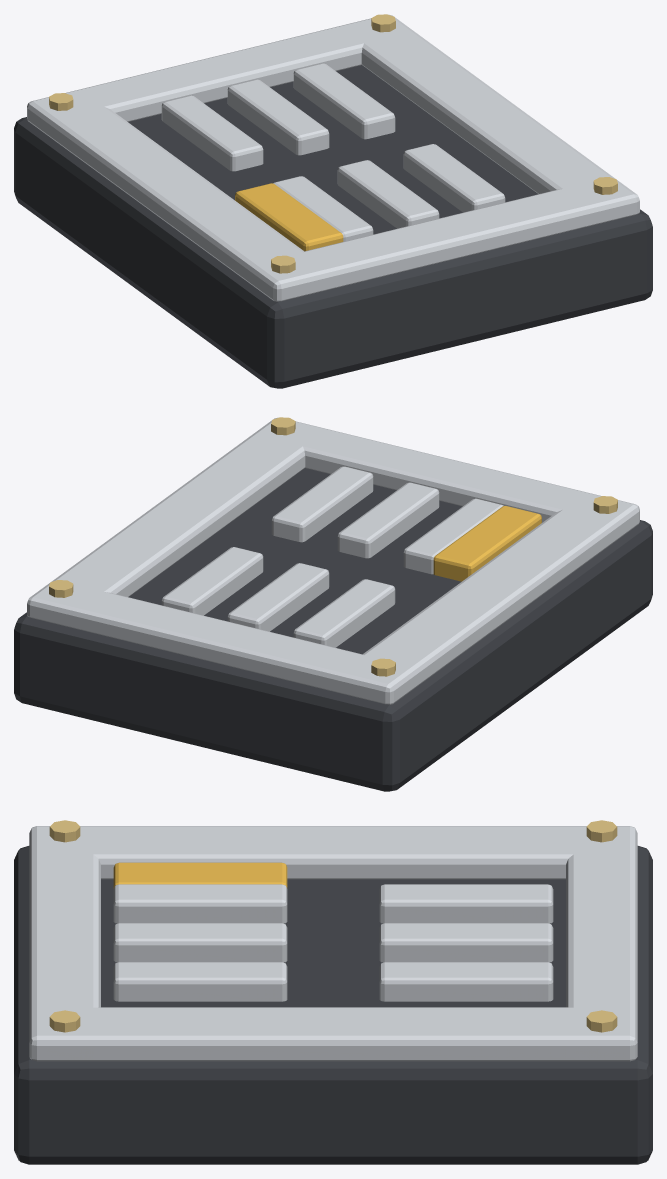
The model's file is gearbox_gate.glb.
3 views of the same model, one above another, from view 1: azimuth 30°, elevation 25°; view 2: azimuth 150°, elevation 25°; view 3: azimuth 270°, elevation 25° (orthographic). The views are drawn at different scales.
Parts seen in each view (by area): view 1: GateBaseBox, GateTopBorderB, GateTopPlateR, GateTopPlateL, GateTopBorderF, GateFingerTop_0.000, GateFingerTop_0.036, GateFingerTop_-0.036, GateFingerBot_0.000, GateFingerBot_0.036, GateBlockRevBot, GateFingerBot_-0.036; view 2: GateBaseBox, GateTopBorderF, GateTopPlateL, GateTopPlateR, GateTopBorderB, GateFingerBot_0.000, GateFingerBot_0.036, GateBlockRevBot, GateFingerTop_0.000, GateFingerTop_-0.036, GateFingerTop_0.036, GateFingerBot_-0.036; view 3: GateBaseBox, GateTopPlateR, GateTopPlateL, GateTopBorderF, GateTopBorderB, GateFingerBot_0.000, GateFingerTop_0.000, GateFingerBot_0.036, GateFingerTop_0.036, GateFingerTop_-0.036, GateFingerBot_-0.036, GateBlockRevBot (+4 smaller).
Boxes of the visible parts, bbox=[...] form: GateBaseBox: bbox=[14, 65, 652, 388]; GateTopBorderB: bbox=[249, 178, 639, 301]; GateTopPlateR: bbox=[345, 20, 632, 202]; GateTopPlateL: bbox=[50, 93, 320, 289]; GateTopBorderF: bbox=[27, 14, 414, 137]; GateFingerTop_0.000: bbox=[227, 79, 329, 155]; GateFingerTop_0.036: bbox=[293, 63, 395, 139]; GateFingerTop_-0.036: bbox=[161, 95, 263, 171]; GateFingerBot_0.000: bbox=[337, 160, 439, 228]; GateFingerBot_0.036: bbox=[403, 144, 505, 212]; GateBlockRevBot: bbox=[235, 183, 343, 251]; GateFingerBot_-0.036: bbox=[273, 176, 373, 241]; GateBaseBox: bbox=[14, 468, 652, 791]; GateTopBorderF: bbox=[27, 580, 417, 704]; GateTopPlateL: bbox=[346, 496, 628, 693]; GateTopPlateR: bbox=[38, 423, 321, 605]; GateTopBorderB: bbox=[252, 417, 639, 540]; GateFingerBot_0.000: bbox=[337, 482, 439, 558]; GateFingerBot_0.036: bbox=[271, 466, 373, 542]; GateBlockRevBot: bbox=[433, 506, 541, 581]; GateFingerTop_0.000: bbox=[227, 563, 329, 631]; GateFingerTop_-0.036: bbox=[293, 579, 395, 647]; GateFingerTop_0.036: bbox=[161, 547, 263, 615]; GateFingerBot_-0.036: bbox=[403, 498, 503, 574]; GateBaseBox: bbox=[14, 846, 652, 1164]; GateTopPlateR: bbox=[47, 1007, 619, 1061]; GateTopPlateL: bbox=[47, 826, 619, 879]; GateTopBorderF: bbox=[566, 826, 637, 1061]; GateTopBorderB: bbox=[29, 826, 100, 1061]; GateFingerBot_0.000: bbox=[113, 923, 287, 962]; GateFingerTop_0.000: bbox=[379, 923, 553, 962]; GateFingerBot_0.036: bbox=[113, 962, 287, 1001]; GateFingerTop_0.036: bbox=[379, 962, 553, 1001]; GateFingerTop_-0.036: bbox=[379, 884, 553, 923]; GateFingerBot_-0.036: bbox=[113, 884, 287, 923]; GateBlockRevBot: bbox=[113, 862, 287, 888].
Size of the model in its own units: 0.21 by 0.0585 by 0.25.
